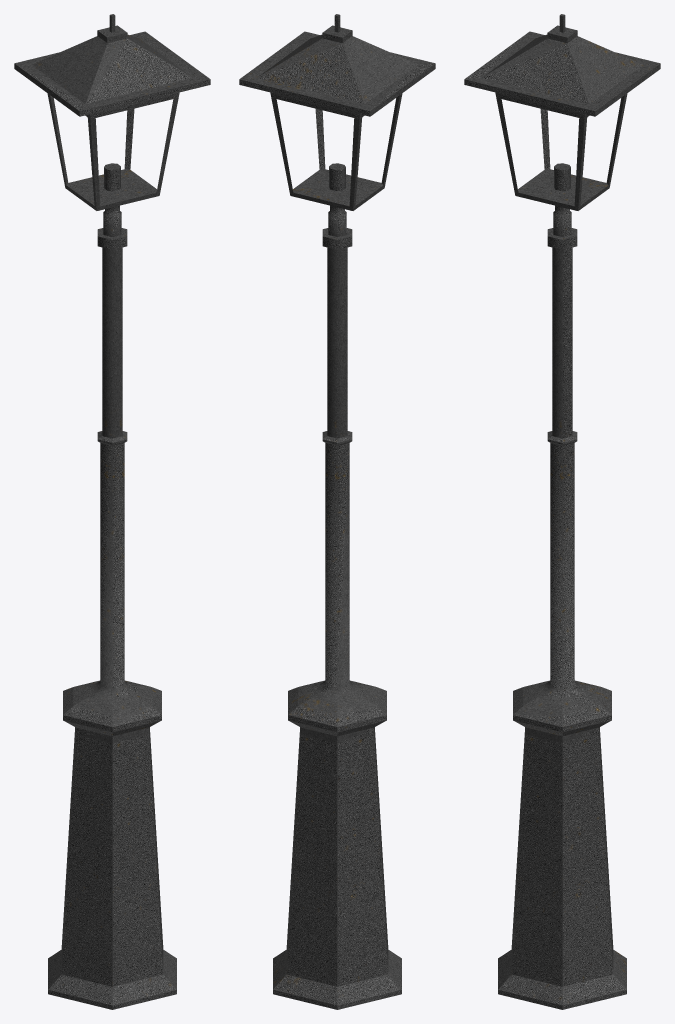
Rendered from Street lamp_2.FBX.
The picture shows the model from 3 angles, left to right: view 1: azimuth 30°, elevation 25°; view 2: azimuth 150°, elevation 25°; view 3: azimuth 330°, elevation 25°; orthographic projection.
Visible parts, largest first — view 1: Street lamp; view 2: Street lamp; view 3: Street lamp.
Part boxes in pixels (x1=…): Street lamp: x1=14, y1=14, x2=210, y2=1009; Street lamp: x1=239, y1=14, x2=435, y2=1009; Street lamp: x1=464, y1=14, x2=660, y2=1009.
Bounding box in the file's own units: 27.75 × 195 × 24.03.
